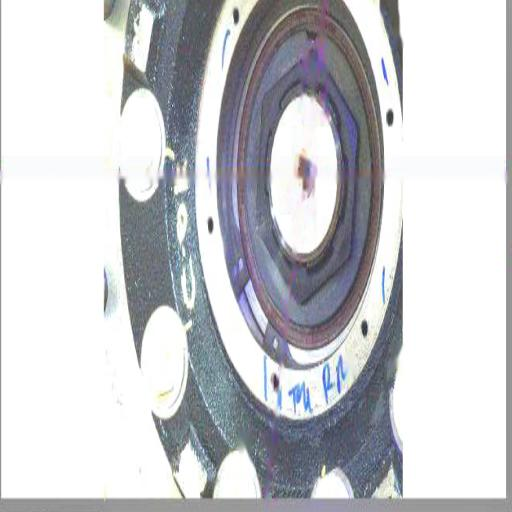center: (296, 160, 311, 196)
notch: (302, 23, 321, 48)
